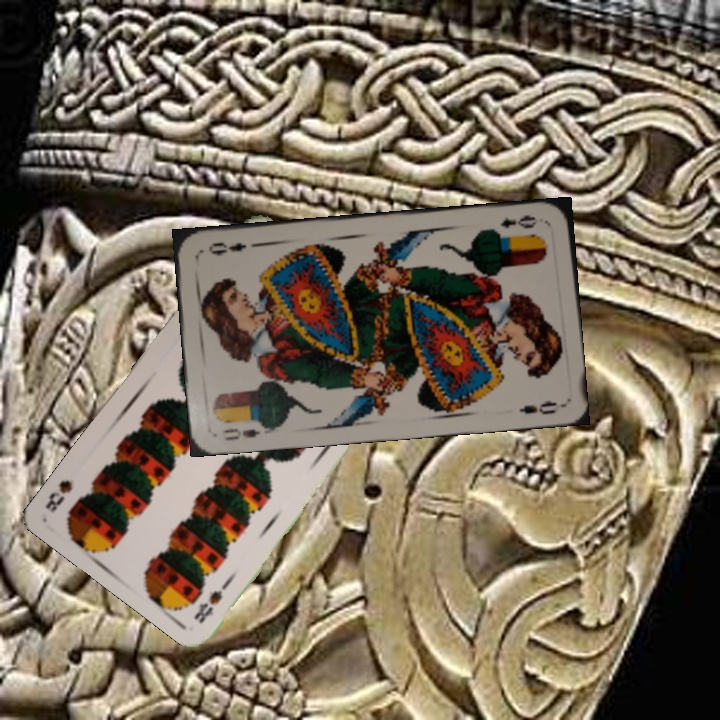EO: (496, 211, 541, 231), (218, 424, 263, 444)
S8: (189, 575, 234, 626)
